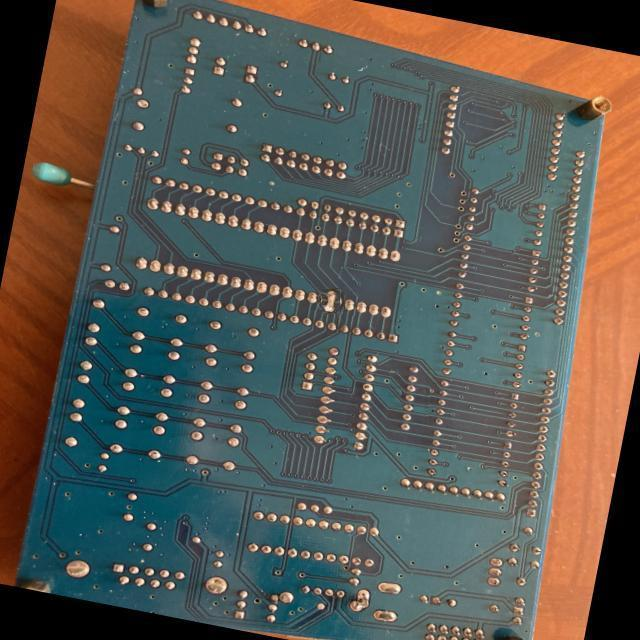damged: (320, 290, 343, 312)
